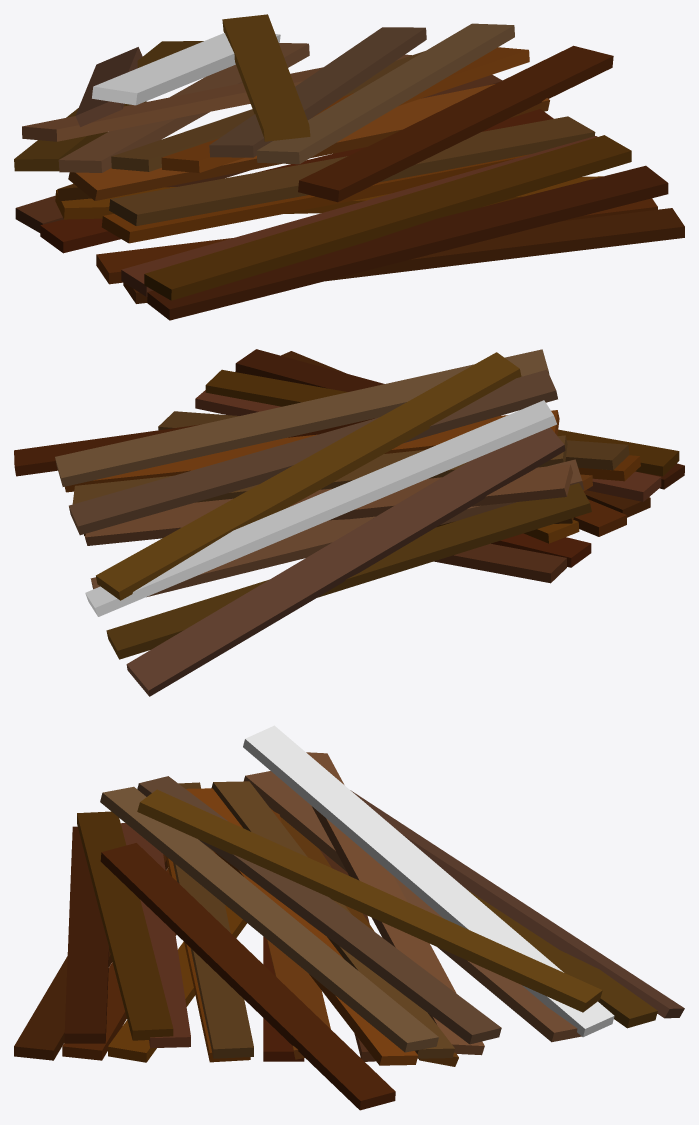
The model's file is Доски куча.fbx.
The picture shows the model from 3 angles, top to bottom: view 1: azimuth 30°, elevation 25°; view 2: azimuth 150°, elevation 25°; view 3: azimuth 270°, elevation 25°; orthographic projection. The views are drawn at different scales.
Parts seen in each view (by area): view 1: Cube.010, Cube.009, Cube.013, Cube.011, Cube.014, Cube.007, Cube.004, Cube.015, Cube.012, Cube.005, Cube.022, Cube.019 (+10 smaller); view 2: Cube.020, Cube.012, Cube.014, Cube.019, Cube.015, Cube.021, Cube.022, Cube.010, Cube.023, Cube.009, Cube.016, Cube.002 (+9 smaller); view 3: Cube.012, Cube.013, Cube.019, Cube.014, Cube.015, Cube.010, Cube.009, Cube.023, Cube.020, Cube.011, Cube.022, Cube.017 (+10 smaller).
Boxes of the visible parts, <box> form: Cube.010: <box>144,135,631,300</box>; Cube.009: <box>147,165,668,320</box>; Cube.013: <box>298,45,613,202</box>; Cube.011: <box>109,116,595,226</box>; Cube.014: <box>256,23,514,164</box>; Cube.007: <box>123,208,684,303</box>; Cube.004: <box>68,84,549,200</box>; Cube.015: <box>209,27,426,157</box>; Cube.012: <box>222,14,310,141</box>; Cube.005: <box>101,154,529,243</box>; Cube.022: <box>22,54,411,141</box>; Cube.019: <box>92,33,280,105</box>; Cube.020: <box>126,427,565,696</box>; Cube.012: <box>96,352,521,600</box>; Cube.014: <box>55,349,549,486</box>; Cube.019: <box>85,400,556,616</box>; Cube.015: <box>69,369,557,535</box>; Cube.021: <box>106,483,591,659</box>; Cube.022: <box>85,464,572,545</box>; Cube.010: <box>205,369,679,476</box>; Cube.023: <box>90,459,583,597</box>; Cube.009: <box>235,349,684,489</box>; Cube.016: <box>65,410,559,492</box>; Cube.002: <box>434,543,566,583</box>; Cube.012: <box>137,789,602,1012</box>; Cube.013: <box>100,843,395,1110</box>; Cube.019: <box>243,725,614,1037</box>; Cube.014: <box>100,786,438,1052</box>; Cube.015: <box>137,776,501,1044</box>; Cube.010: <box>77,811,173,1040</box>; Cube.009: <box>64,826,109,1043</box>; Cube.023: <box>244,771,581,1042</box>; Cube.020: <box>350,790,684,1018</box>; Cube.011: <box>173,782,253,1058</box>; Cube.022: <box>306,752,484,1055</box>; Cube.017: <box>211,781,454,1058</box>.
Bounding box in the file's own units: 517 × 167 × 534.
